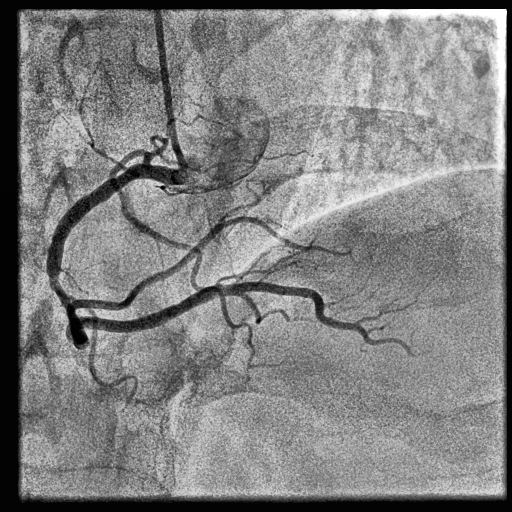pborca: (73, 217, 350, 311)
pda: (77, 281, 433, 359)
rca: (46, 164, 168, 344)
